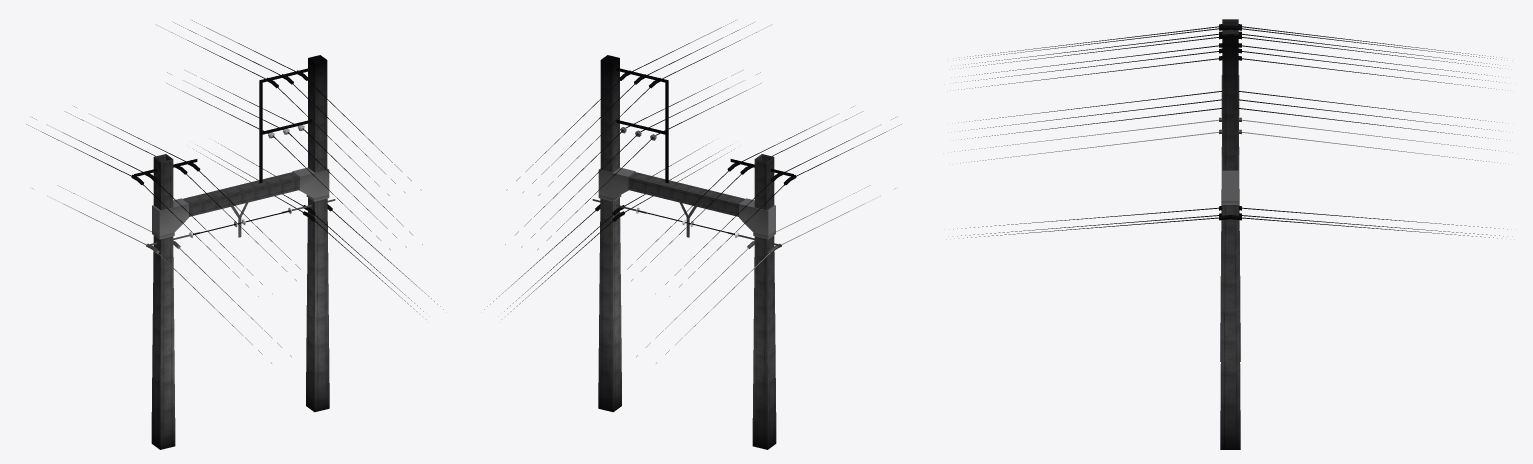
Rendered from KASENCHU_KIN03.glb.
3 renders of one model, left to right at view 1: azimuth 30°, elevation 25°; view 2: azimuth 150°, elevation 25°; view 3: azimuth 270°, elevation 25°, orthographic. The views are drawn at different scales.
Parts seen in each view (by area): view 1: obj8; view 2: obj8; view 3: obj8.
Boxes of the visible parts, x1=… form: obj8: x1=26, y1=19, x2=443, y2=449; obj8: x1=484, y1=19, x2=901, y2=449; obj8: x1=953, y1=19, x2=1507, y2=449.
Bounding box in the file's own units: 23.5 × 38.89 × 50.
4 materials, 4 textured.
